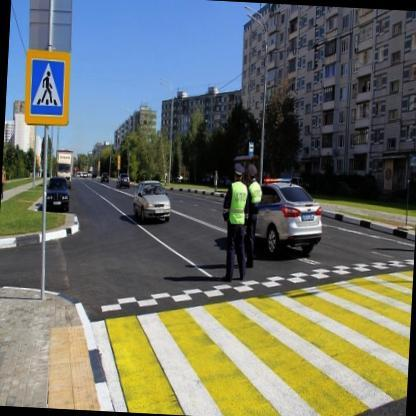road_sign: (25, 49, 69, 125)
